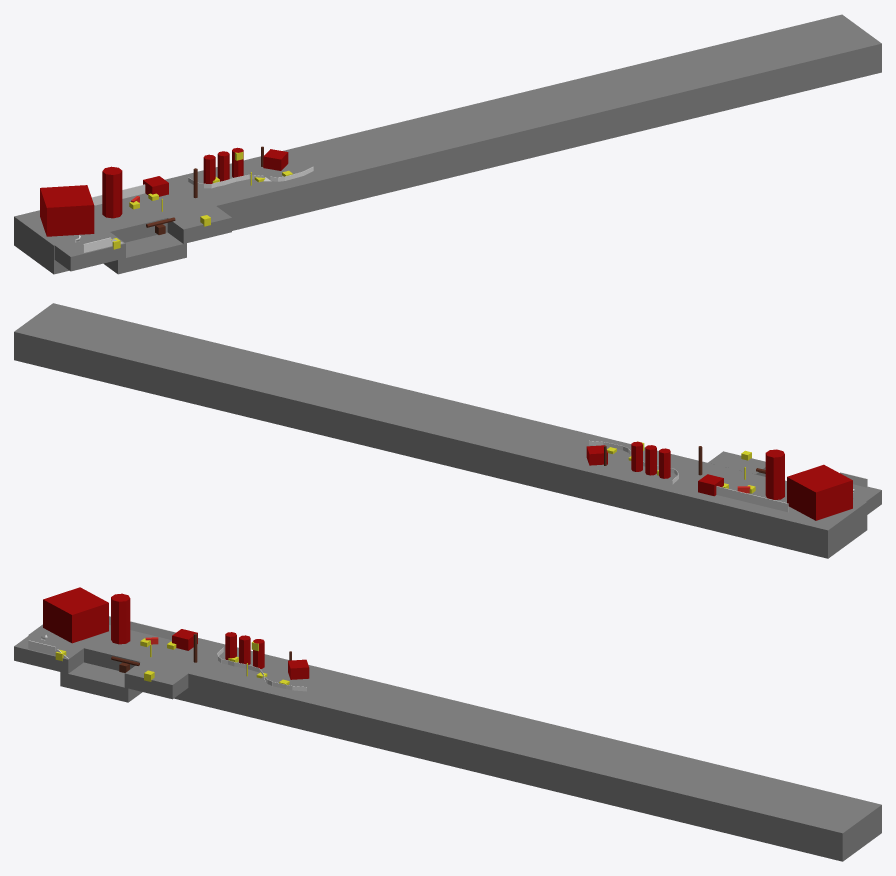
Rendered from map_farm.glb.
3 renders of one model, top to bottom at view 1: azimuth 30°, elevation 25°; view 2: azimuth 150°, elevation 25°; view 3: azimuth 330°, elevation 25°, orthographic.
Parts seen in each view (by area): view 1: Ground.007, Barn, Ground.002, Ground, Ground.003, Silo; view 2: Ground.007, Barn, Silo, Ground.003, Ground; view 3: Ground.007, Barn, Ground.002, Ground.003, Ground, Silo.
Part boxes in pixels (bbox=[...]): Ground.007: bbox=[14, 14, 881, 274]; Barn: bbox=[40, 185, 94, 236]; Ground.002: bbox=[103, 232, 186, 274]; Ground: bbox=[54, 232, 125, 271]; Ground.003: bbox=[167, 206, 231, 243]; Silo: bbox=[102, 166, 122, 218]; Ground.007: bbox=[14, 303, 867, 558]; Barn: bbox=[787, 464, 852, 520]; Silo: bbox=[765, 449, 784, 499]; Ground.003: bbox=[708, 451, 765, 476]; Ground: bbox=[853, 484, 881, 514]; Ground.007: bbox=[28, 624, 881, 861]; Barn: bbox=[43, 587, 108, 643]; Ground.002: bbox=[60, 662, 142, 702]; Ground.003: bbox=[124, 662, 188, 699]; Ground: bbox=[14, 635, 83, 673]; Silo: bbox=[111, 593, 130, 644].
Size of the model in its own units: 120 by 10 by 14.14.
